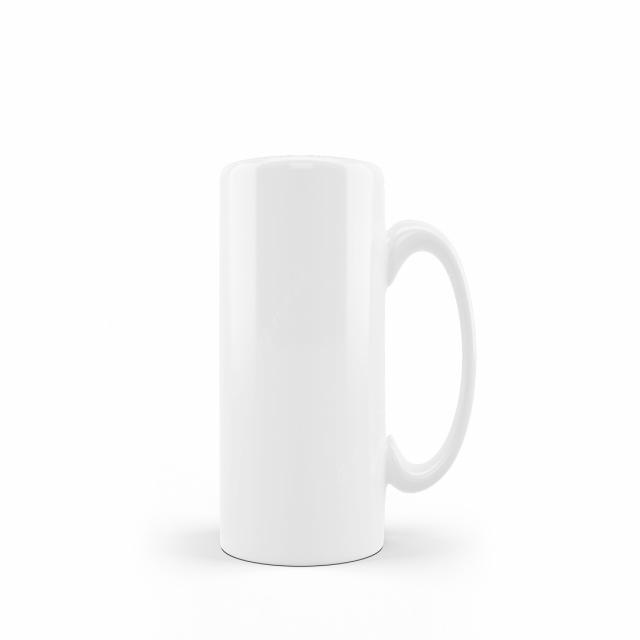cup: (198, 127, 489, 600)
